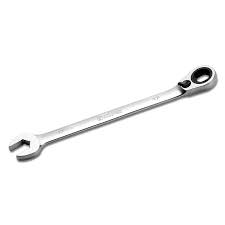wrench: (5, 62, 225, 164)
